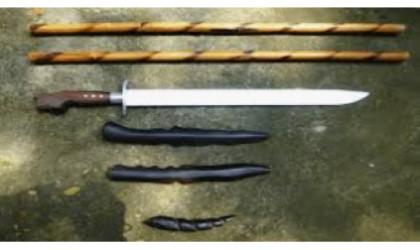baston_e: (34, 20, 398, 38), (30, 48, 402, 65)
baston_v: (18, 17, 38, 34), (21, 45, 37, 66), (397, 46, 412, 67), (394, 17, 409, 37)
